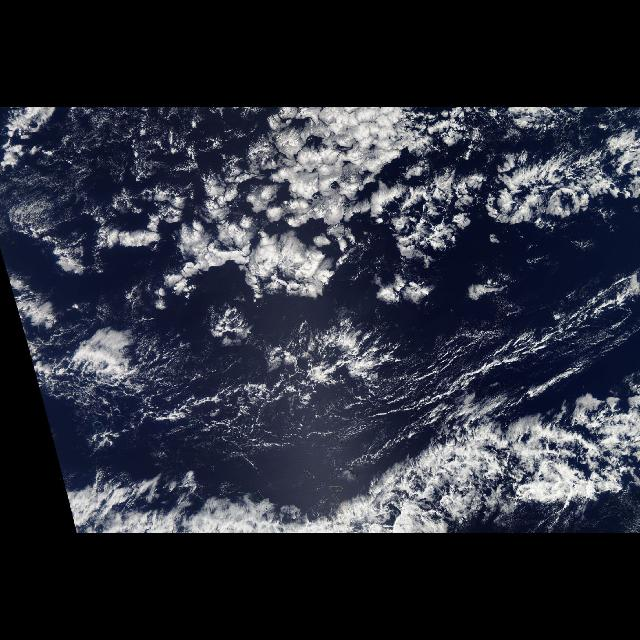Fish: (41, 398, 640, 534)
Flower: (124, 108, 412, 302)
